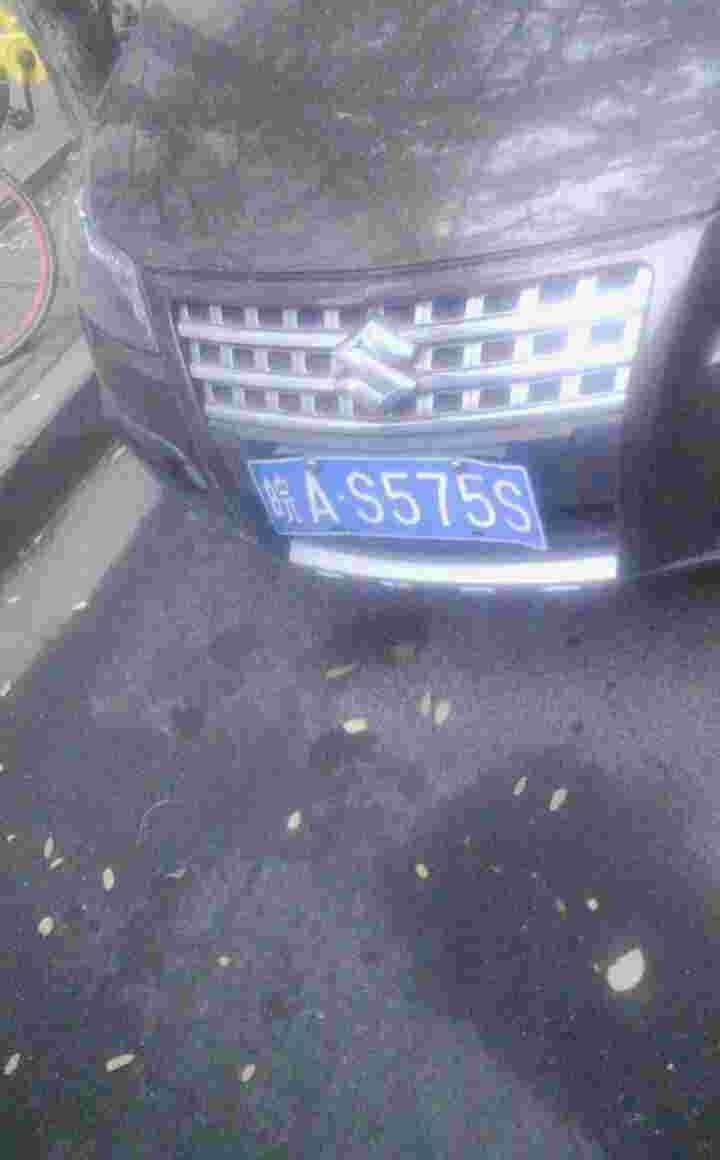license_plate: (262, 455, 549, 543)
